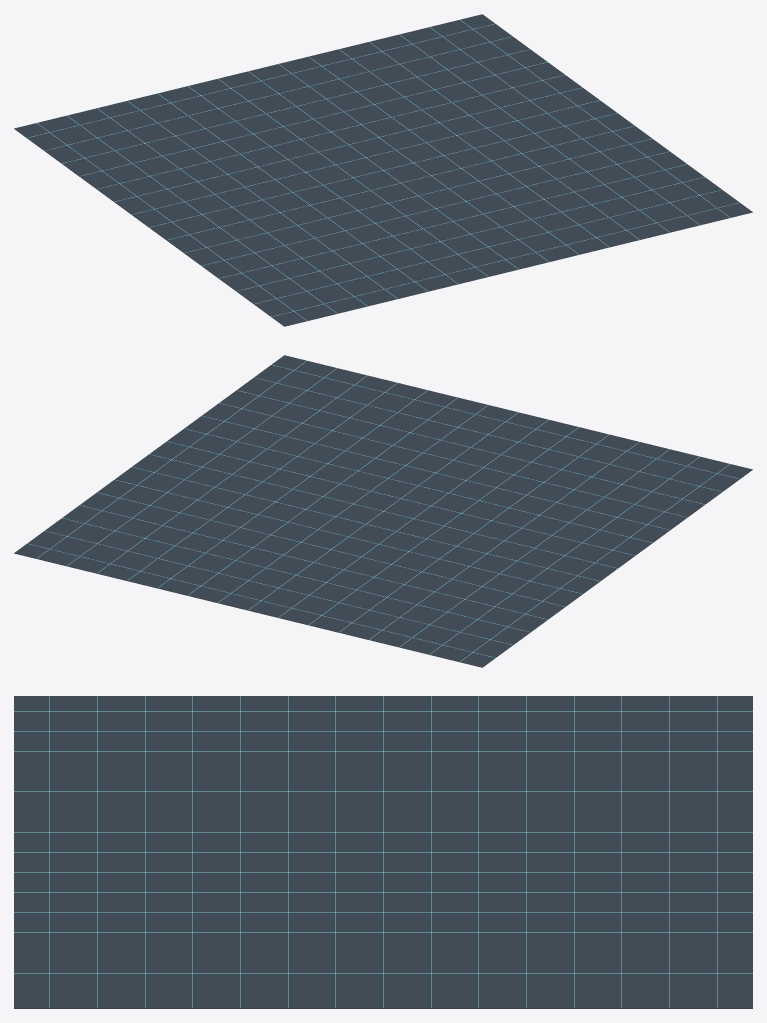
The model's file is deck-envelope.glb.
The picture shows the model from 3 angles, top to bottom: view 1: azimuth 30°, elevation 25°; view 2: azimuth 150°, elevation 25°; view 3: azimuth 270°, elevation 25°; orthographic projection. The views are drawn at different scales.
Parts seen in each view (by area): view 1: Envelope & Finish Deck; view 2: Envelope & Finish Deck; view 3: Envelope & Finish Deck.
Boxes of the visible parts, x1,y1,x2,y2 form: Envelope & Finish Deck: (14,14,752,326); Envelope & Finish Deck: (14,355,752,667); Envelope & Finish Deck: (14,696,752,1008).
Size of the model in its own units: 310 by 0.22 by 310.
